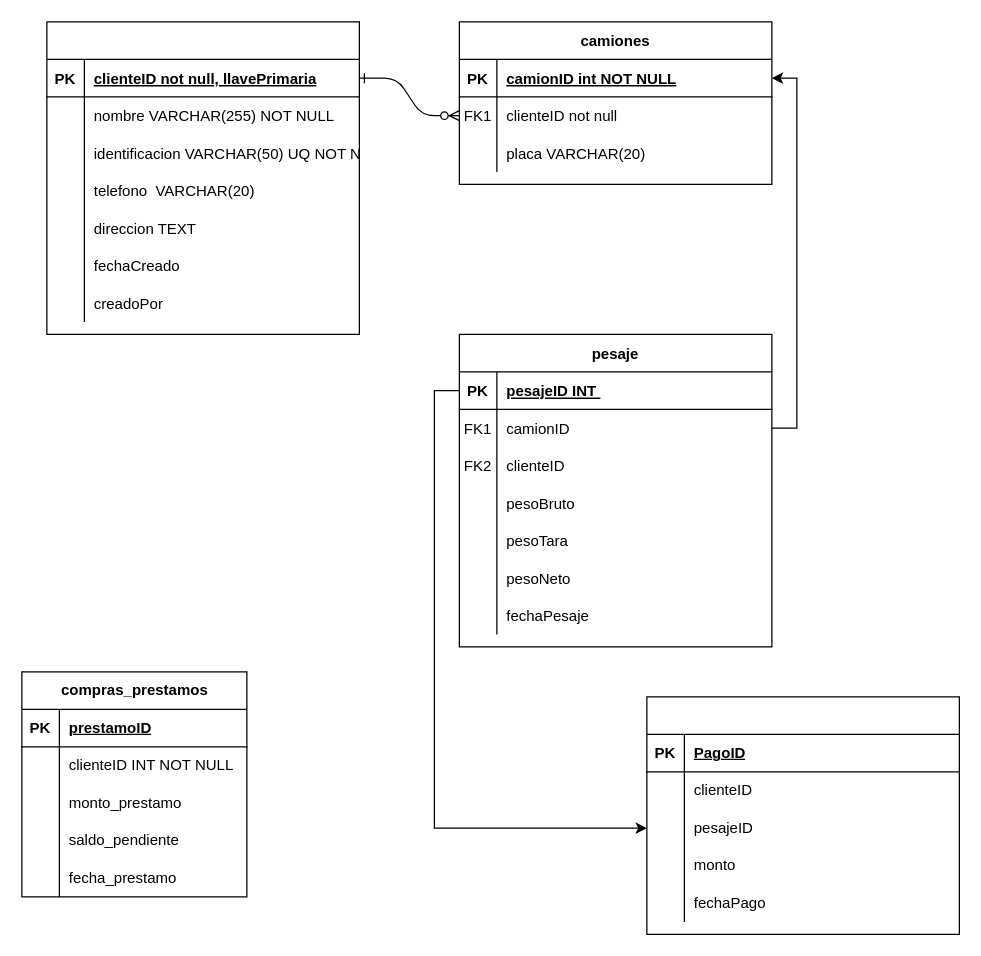
This 981x956 diagram has some shape labels left out. Here are the shapes that lost their labels. From the top down, the box of each, then its label:
(46, 21, 359, 334): compras_Clientes
(646, 696, 959, 934): pagos
